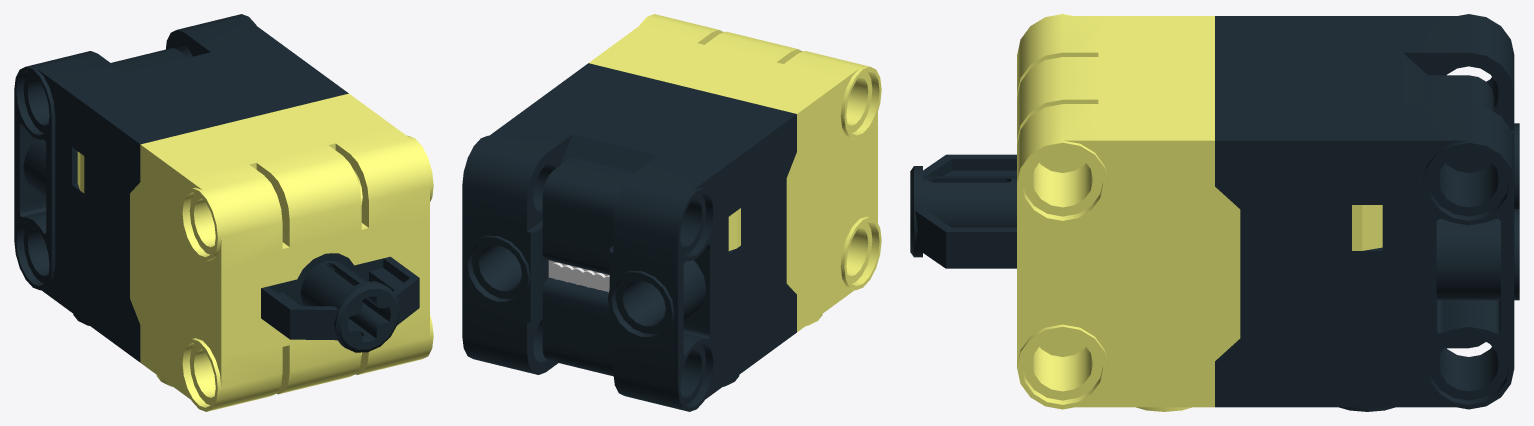
3 renders of one model, left to right at view 1: azimuth 30°, elevation 25°; view 2: azimuth 150°, elevation 25°; view 3: azimuth 270°, elevation 25°, orthographic. The views are drawn at different scales.
Visible parts, largest first — view 1: u9461.dat, u9463.dat, u9462.dat; view 2: u9463.dat, u9461.dat, u9460.dat, u9461c01.dat; view 3: u9463.dat, u9461.dat, u9462.dat, u9460.dat.
Boxes of the visible parts, box(x1,y1,x2,y2) form: u9461.dat: box(77, 93, 433, 411); u9463.dat: box(14, 14, 348, 362); u9462.dat: box(261, 253, 419, 352); u9463.dat: box(462, 63, 796, 411); u9461.dat: box(589, 14, 881, 331); u9460.dat: box(542, 205, 613, 357); u9461c01.dat: box(548, 260, 609, 292); u9463.dat: box(1215, 14, 1519, 411); u9461.dat: box(1017, 14, 1382, 411); u9462.dat: box(910, 154, 1016, 268); u9460.dat: box(1445, 152, 1491, 172).
Bounding box in the file's own units: 0.024 × 0.0236 × 0.048.
